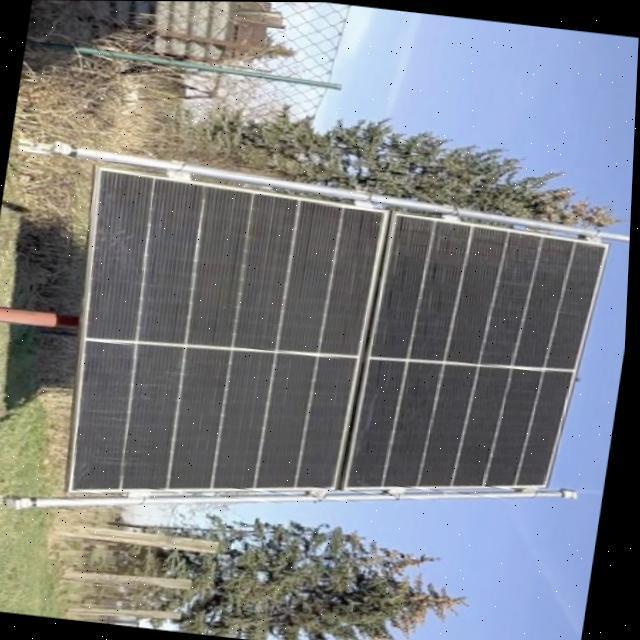Normal Solar Panel: (49, 165, 614, 547)
